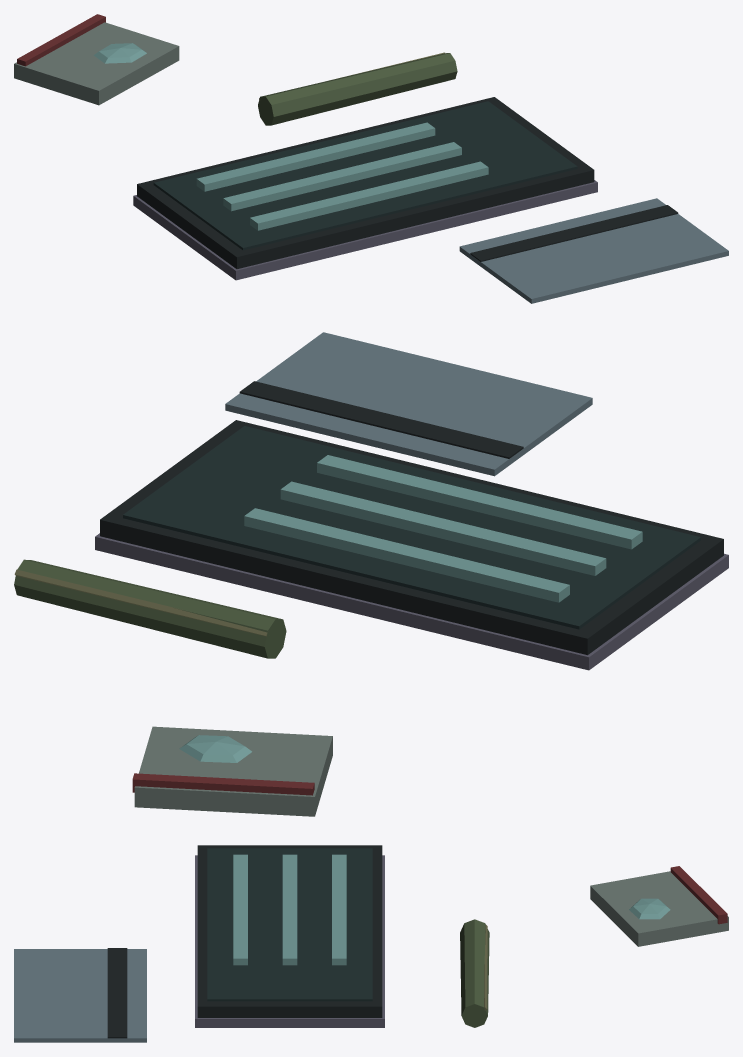
File: recuzita_8ball.glb
3 renders of one model, top to bottom at view 1: azimuth 30°, elevation 25°; view 2: azimuth 150°, elevation 25°; view 3: azimuth 270°, elevation 25°, orthographic. The views are drawn at different scales.
Visible parts, largest first — view 1: Ecran, Telefon, Card, Punga, Bancnota, Linie3, Linie1, Linie2; view 2: Ecran, Telefon, Card, Punga, Bancnota, Linie2, Linie3, Linie1; view 3: Ecran, Card, Telefon, Punga, Bancnota, Linie2, Linie1, Linie3.
Part boxes in pixels (box(x1,y1,x2,y2)): Ecran: box(153, 101, 577, 250); Telefon: box(133, 97, 597, 280); Card: box(459, 198, 728, 303); Punga: box(14, 14, 179, 105); Bancnota: box(258, 52, 457, 125); Linie3: box(196, 122, 435, 191); Linie1: box(250, 161, 488, 230); Linie2: box(223, 142, 461, 211); Ecran: box(123, 426, 700, 629); Telefon: box(95, 420, 728, 670); Card: box(225, 332, 592, 476); Punga: box(132, 726, 332, 816); Bancnota: box(14, 559, 286, 658); Linie2: box(280, 481, 606, 575); Linie3: box(244, 508, 569, 602); Linie1: box(317, 455, 642, 549); Ecran: box(207, 848, 372, 1001); Card: box(14, 948, 146, 1042); Telefon: box(195, 845, 384, 1027); Punga: box(590, 866, 728, 946); Bancnota: box(460, 919, 489, 1027); Linie2: box(282, 854, 297, 965); Linie1: box(233, 854, 247, 965); Linie3: box(332, 854, 346, 965).
Bounding box in the file's own units: 0.1713 × 0.013 × 0.2902.
